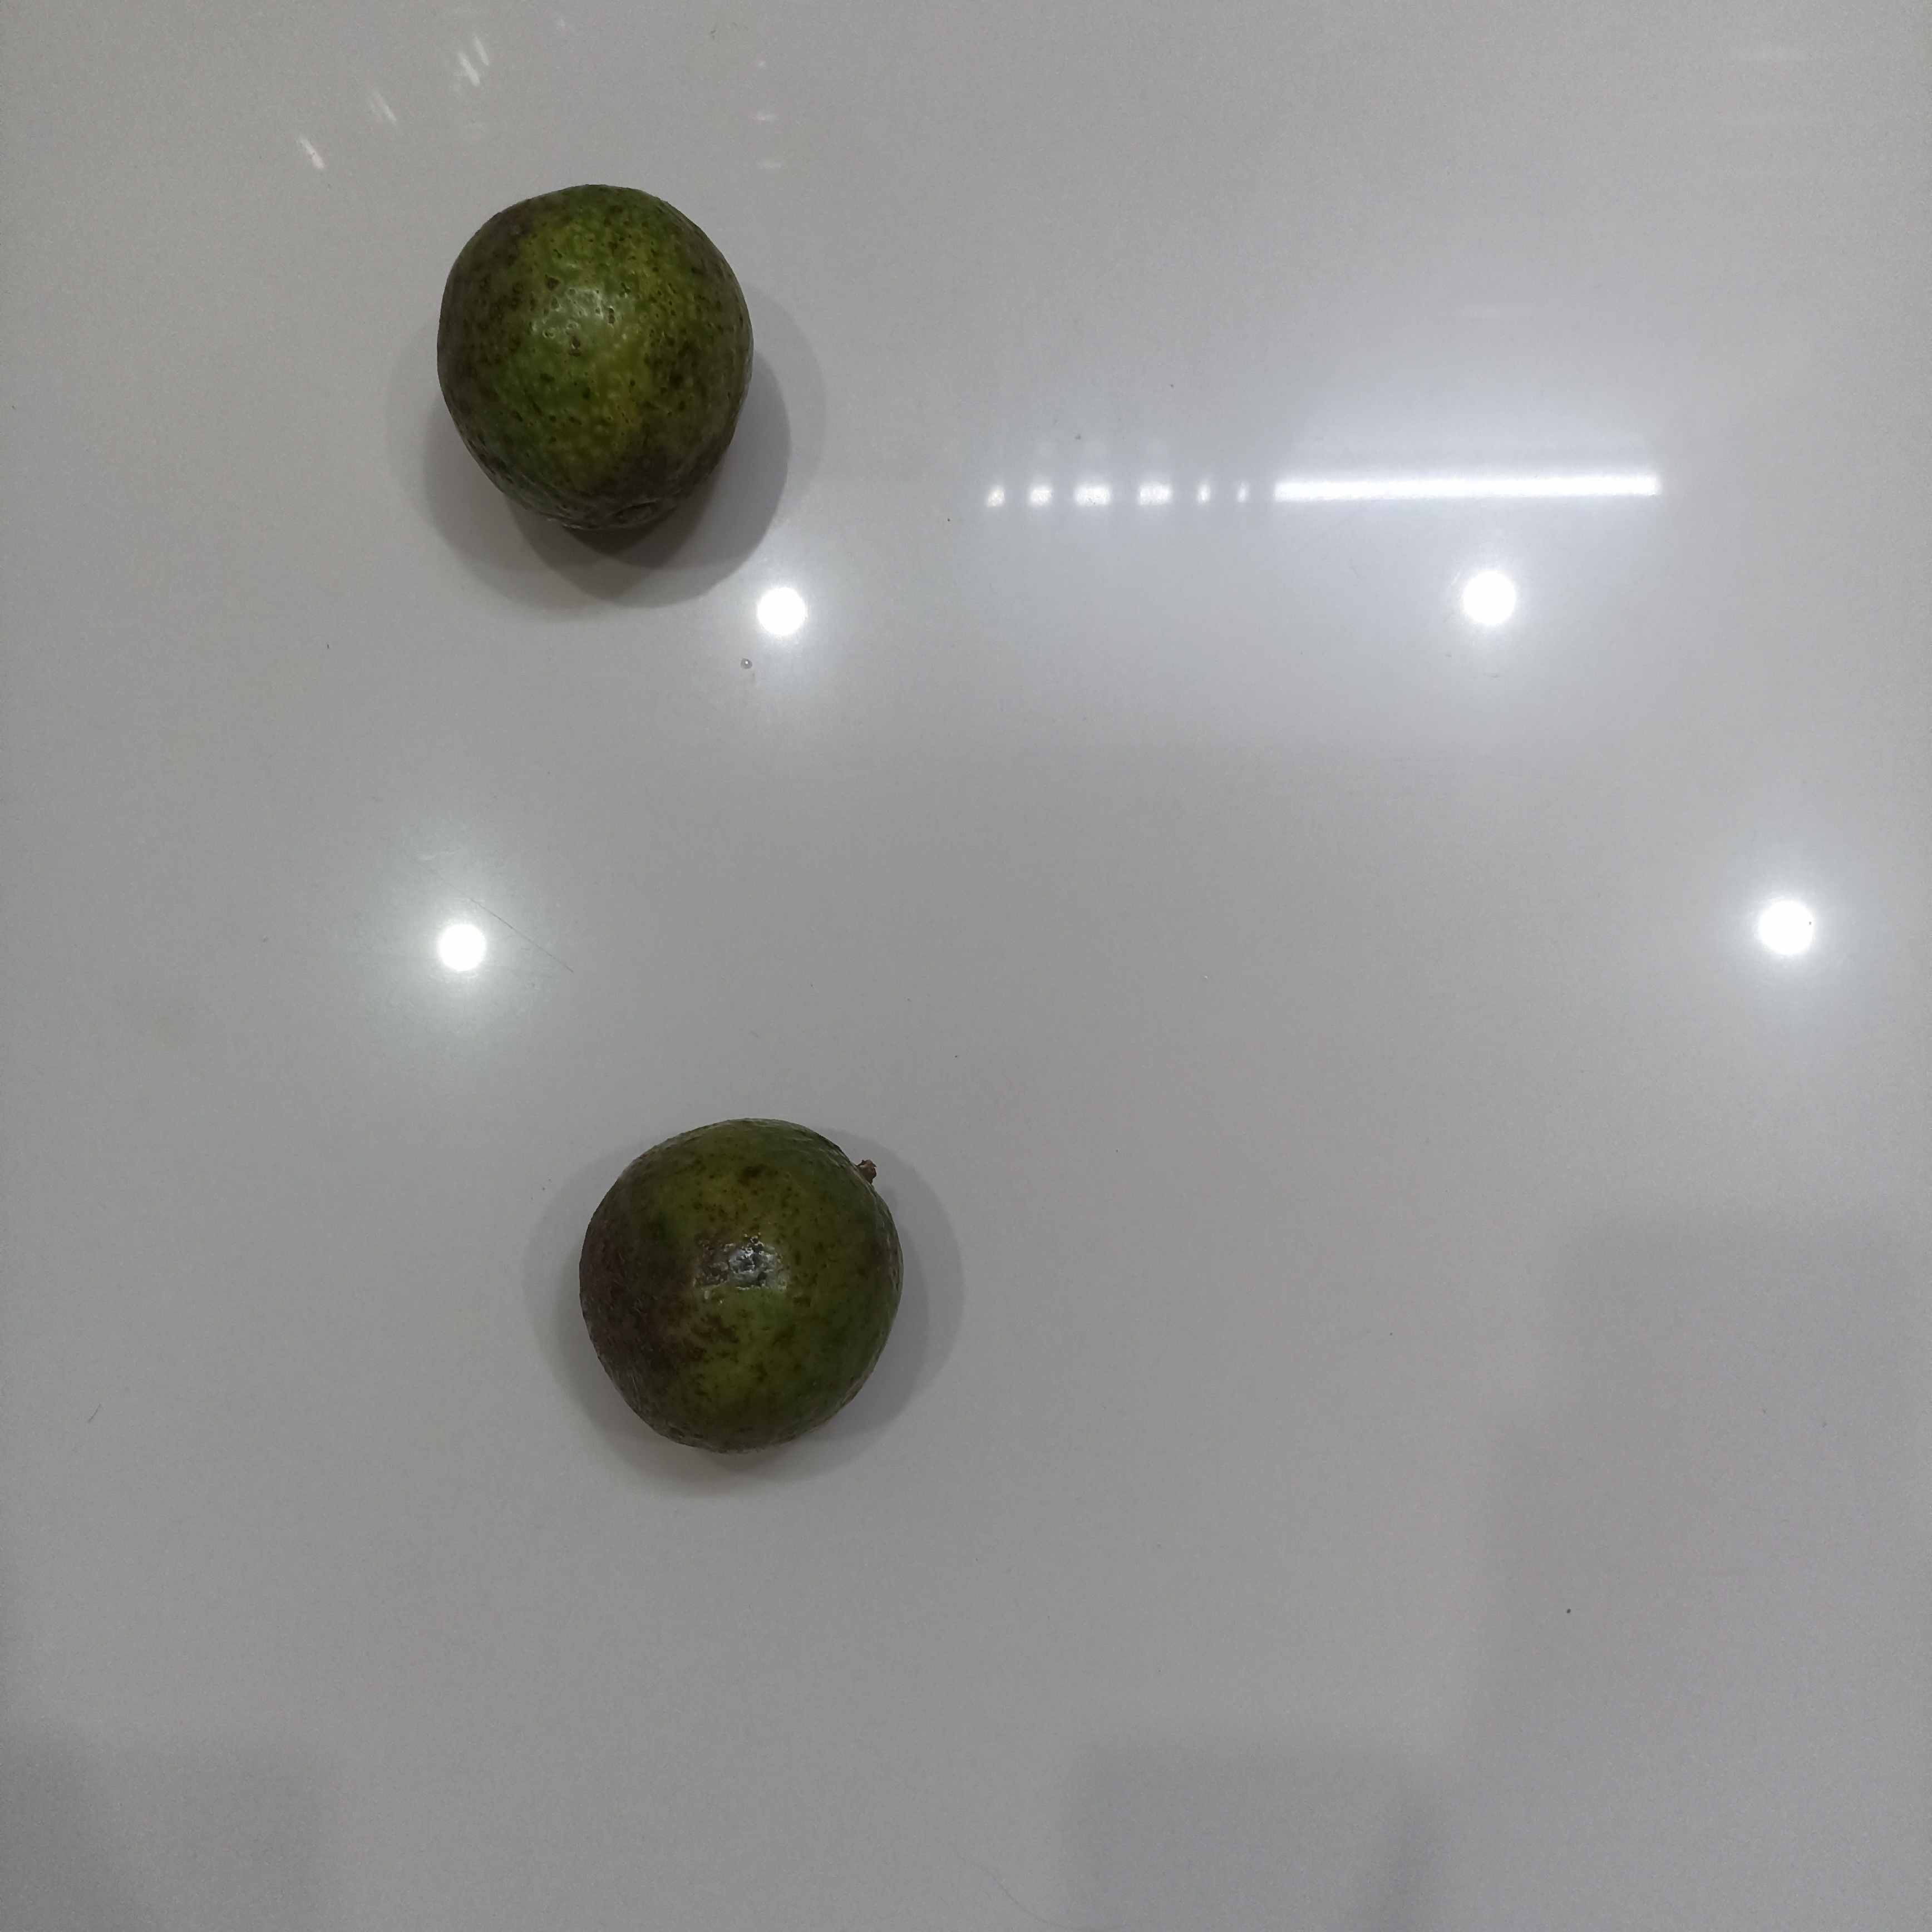Bo: (428, 180, 752, 557), (571, 1113, 906, 1458)
